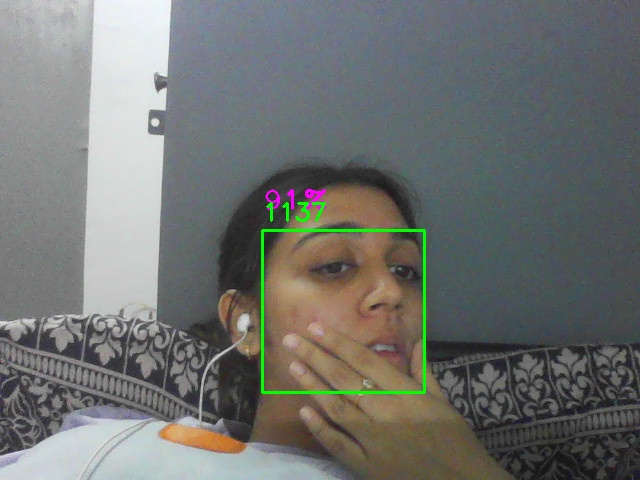real: (262, 230, 425, 393)
